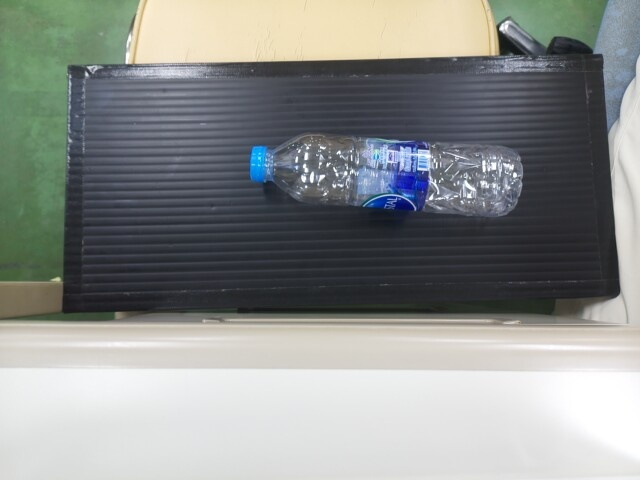plastic_bottle: (249, 130, 522, 217)
